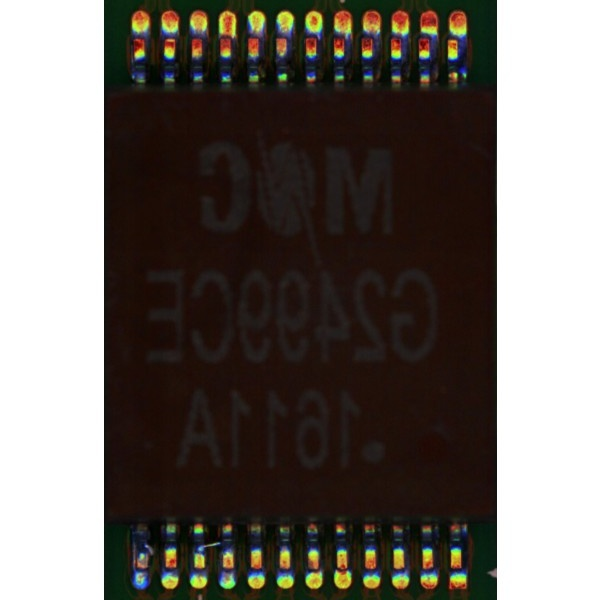Bad_podu: (337, 560, 348, 577), (220, 27, 232, 42)
